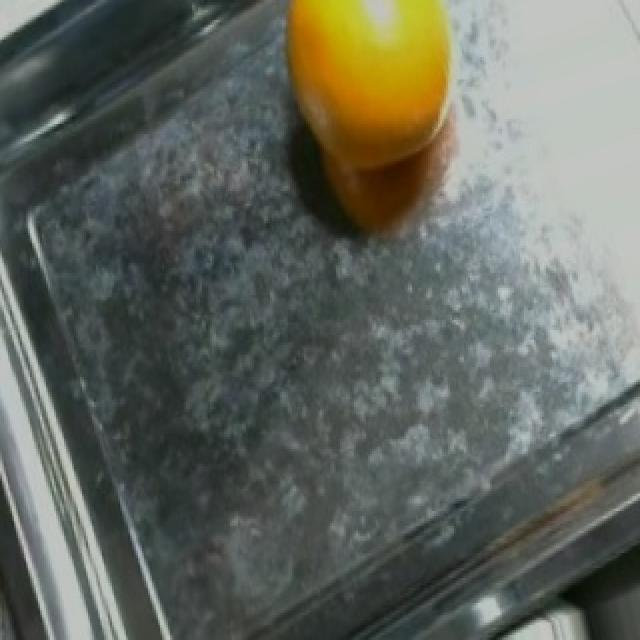Fruit: (256, 2, 480, 258), (0, 0, 150, 74)
